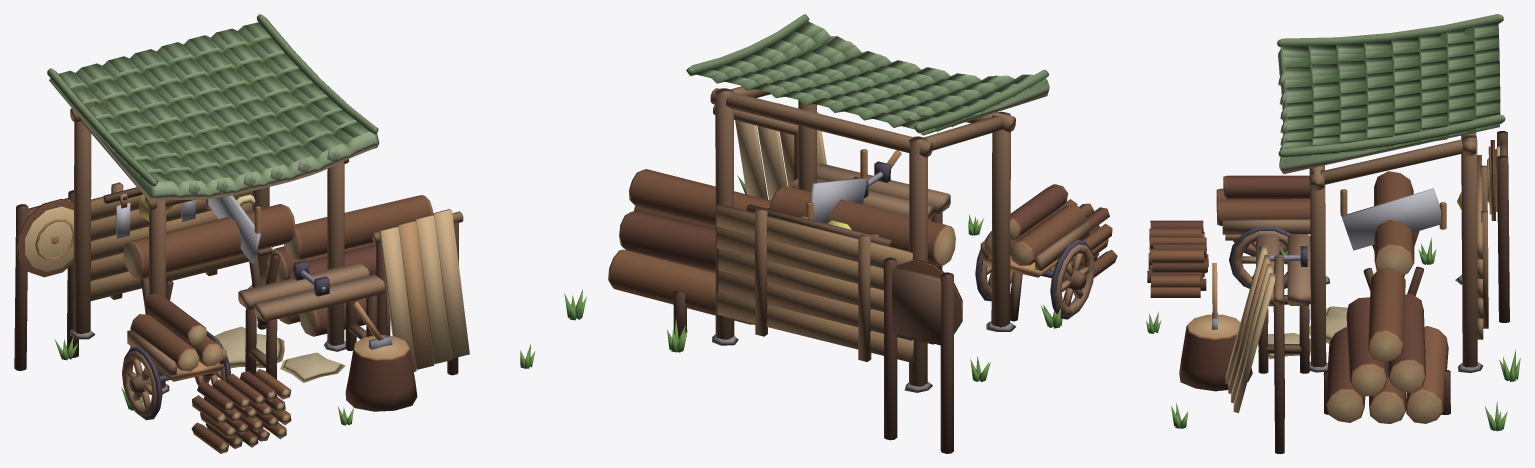
The model's file is lumber-2.glb.
3 views of the same model, side by side, from view 1: azimuth 30°, elevation 25°; view 2: azimuth 150°, elevation 25°; view 3: azimuth 270°, elevation 25° (orthographic). The views are drawn at different scales.
Visible parts, largest first — view 1: lumber-2; view 2: lumber-2; view 3: lumber-2.
Part boxes in pixels (x1=…): lumber-2: x1=14, y1=14, x2=535, y2=453; lumber-2: x1=564, y1=14, x2=1117, y2=453; lumber-2: x1=1146, y1=14, x2=1520, y2=453.
Size of the model in its own units: 3.05 by 2.39 by 2.72.
